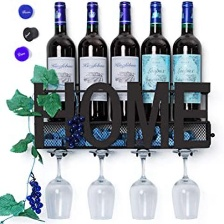bottle: (42, 0, 79, 122), (76, 0, 111, 125), (171, 0, 204, 122), (108, 0, 140, 124), (140, 0, 172, 124)
glass: (80, 147, 120, 223), (39, 147, 77, 221), (167, 148, 205, 222), (125, 149, 159, 223)
